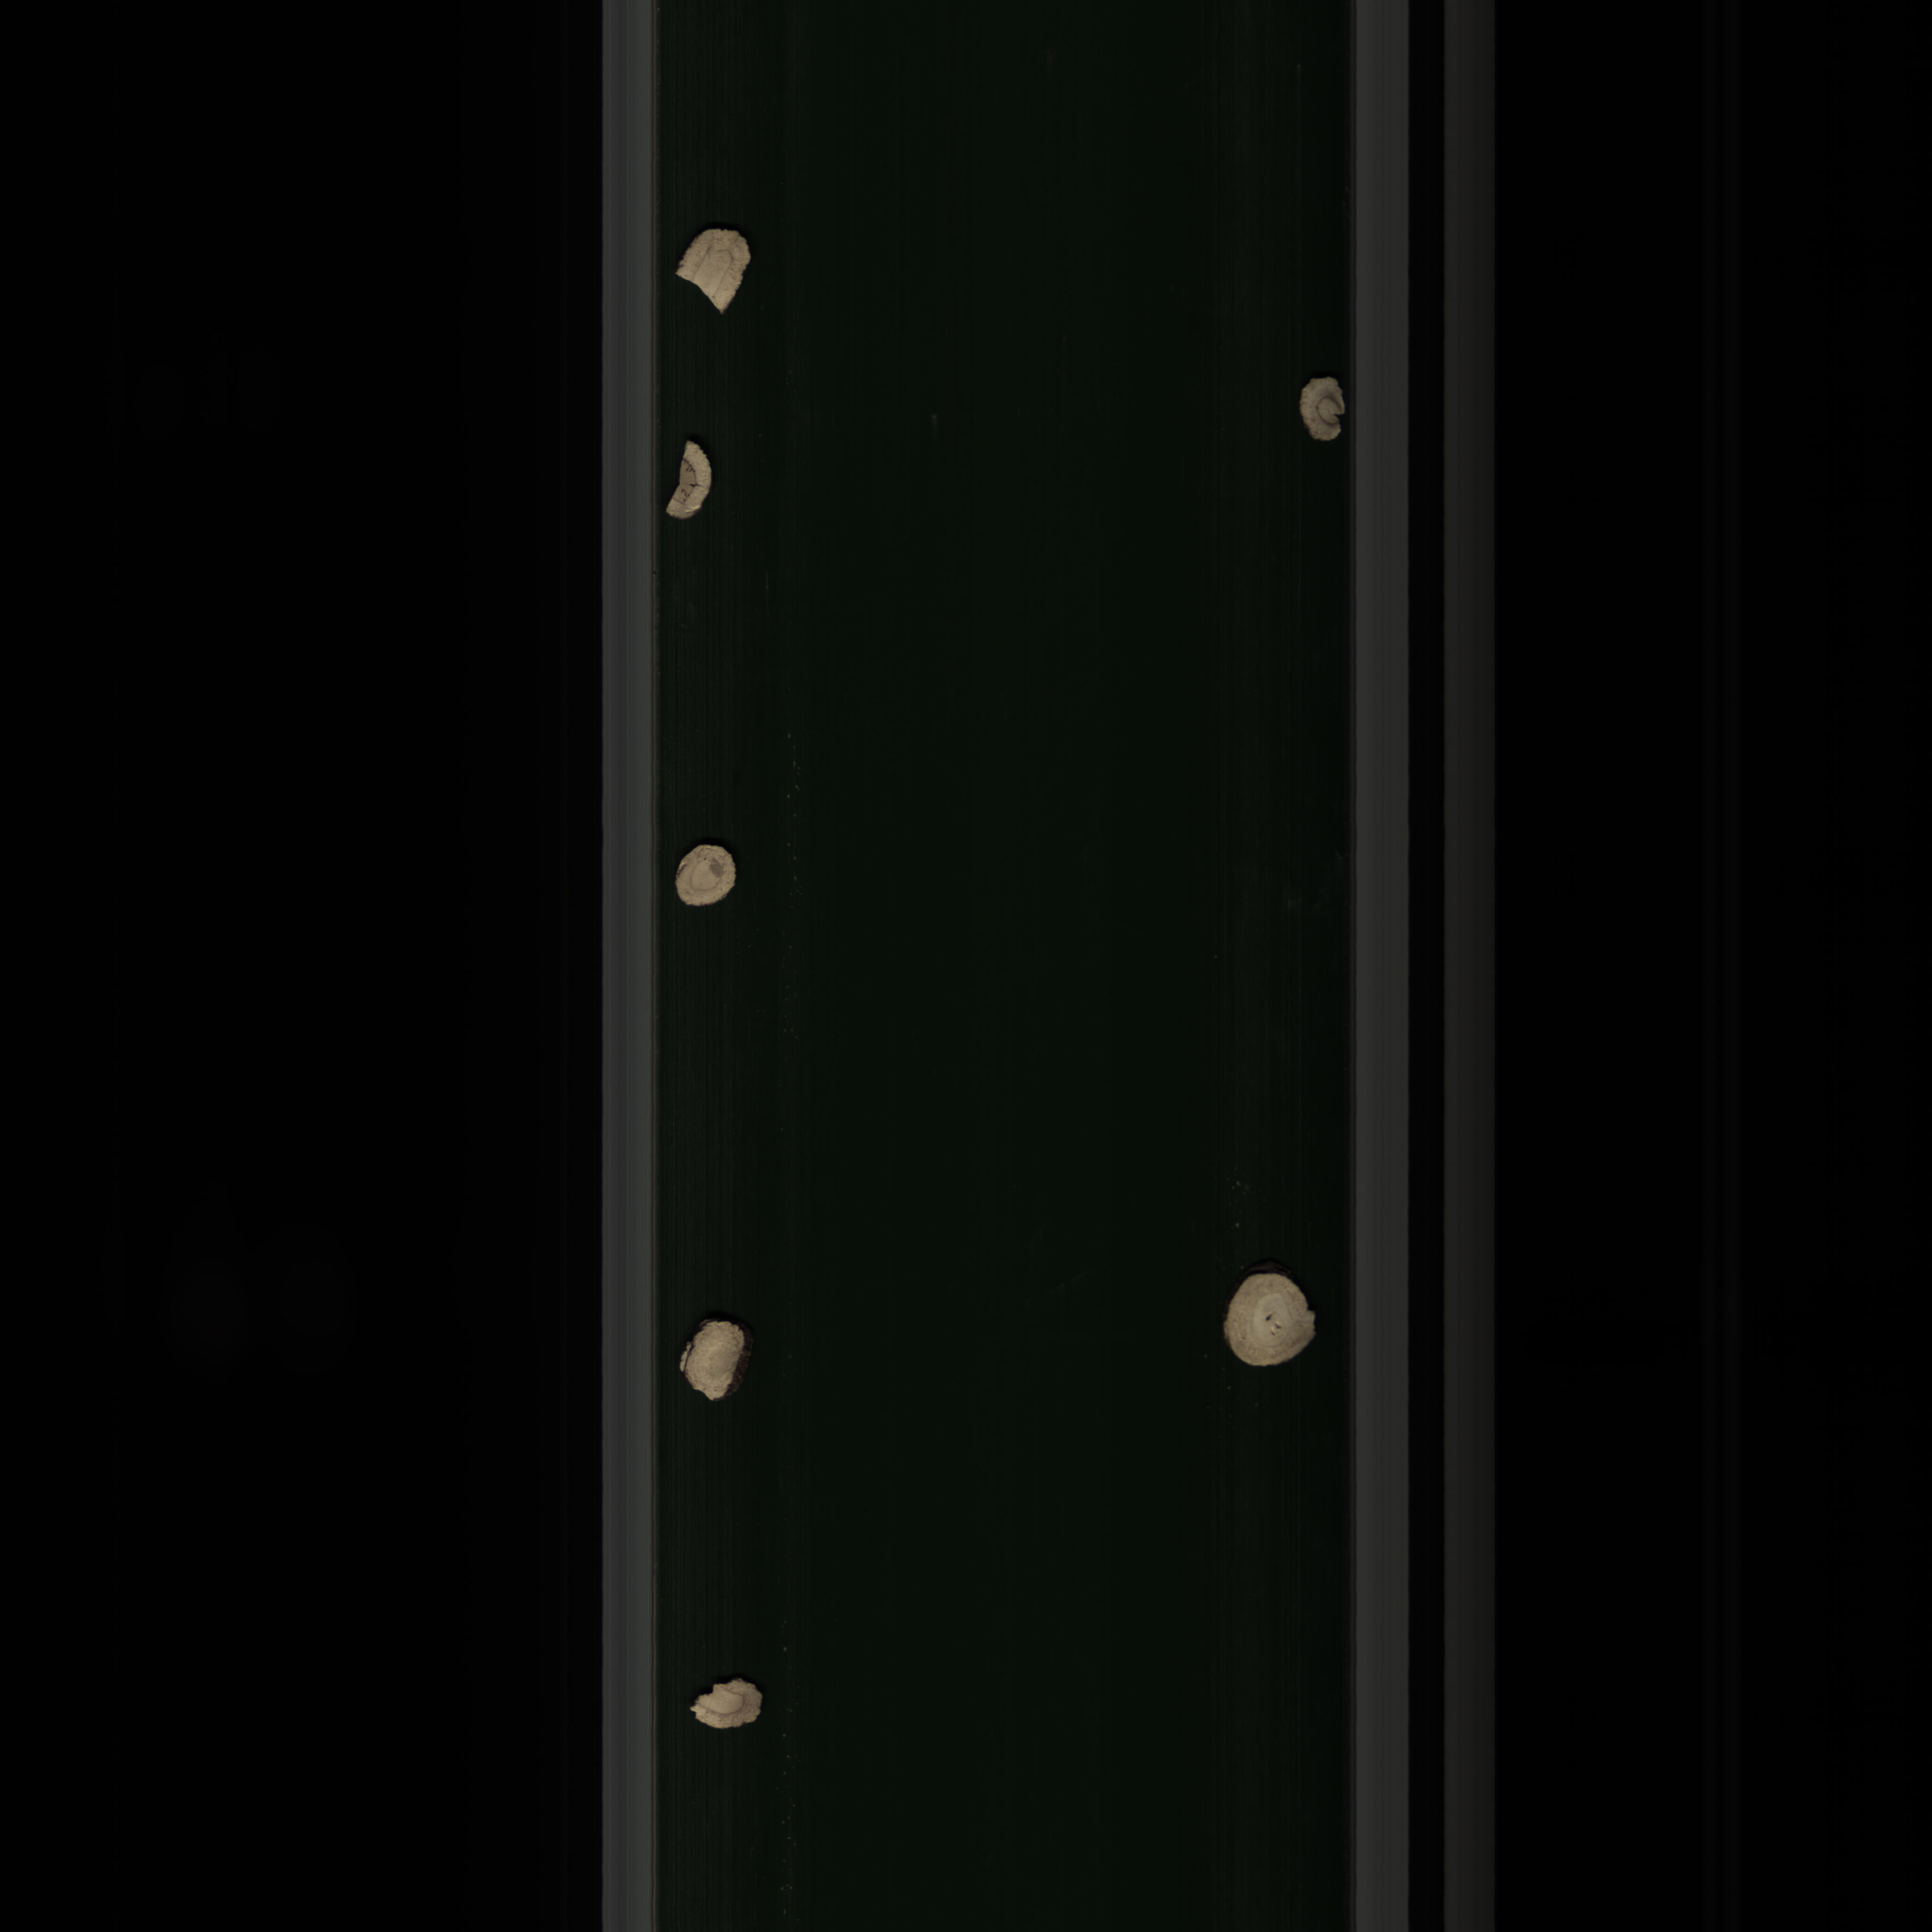debris: (669, 219, 761, 326), (660, 437, 718, 531), (686, 1672, 770, 1737)
moldy: (1292, 375, 1348, 453)
